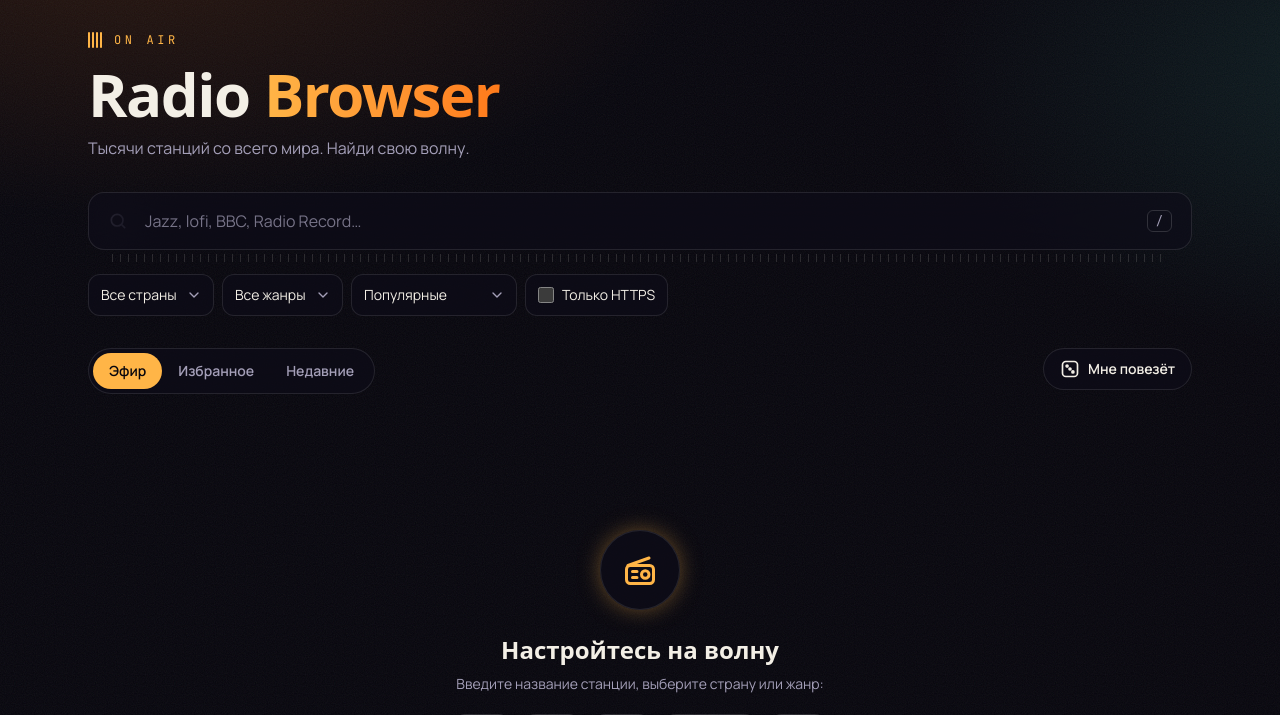
it: App › находит станции и показывает их списком
In the search field named "Поиск станции по названию": coordinates (640, 221) [88,192,1192,250], type "jazz"
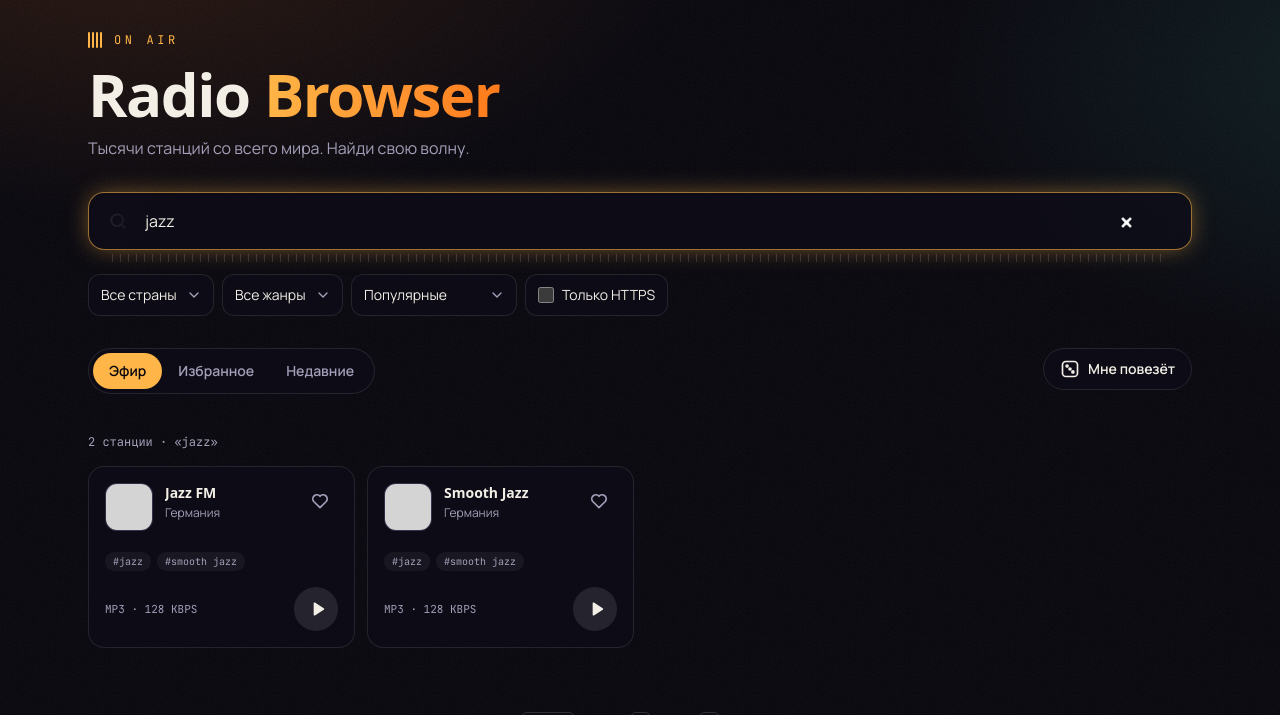
Result: the heading "Jazz FM" is shown at [165,483,216,502]
Result: the heading "Smooth Jazz" is shown at [444,483,528,502]
Result: the text "2 станции · «jazz»" is shown at [88,434,218,450]
